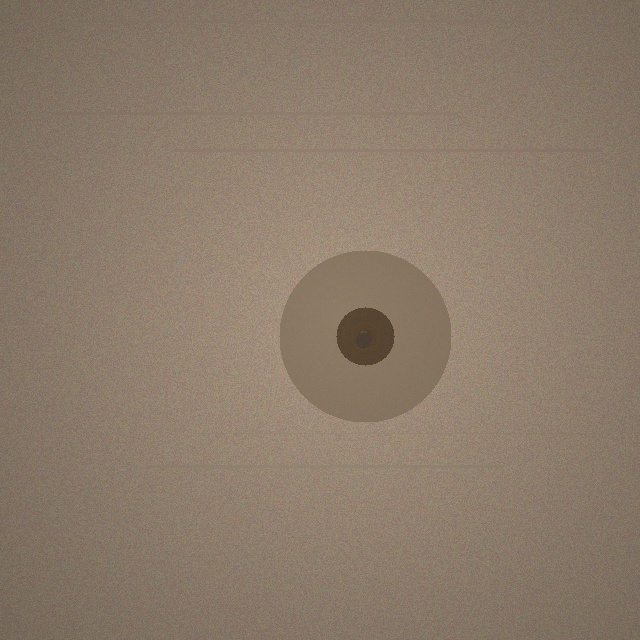cold_weld: (279, 250, 451, 422)
